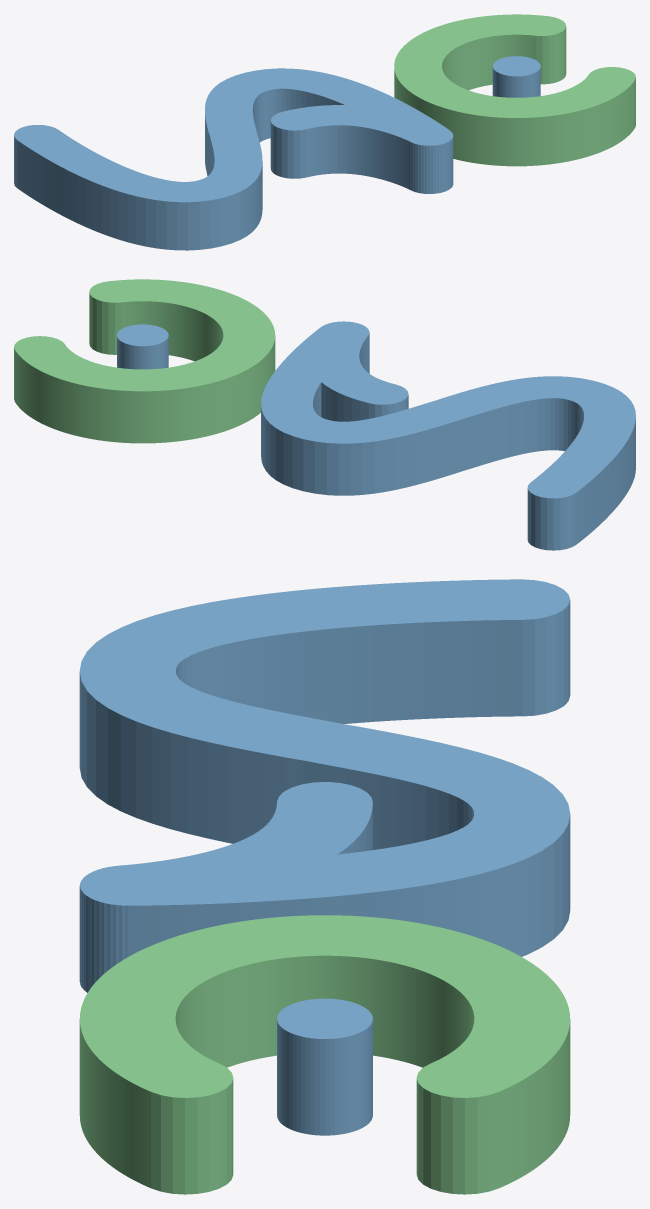
The model's file is vac.glb.
3 views of the same model, one above another, from view 1: azimuth 30°, elevation 25°; view 2: azimuth 150°, elevation 25°; view 3: azimuth 270°, elevation 25° (orthographic). The views are drawn at different scales.
Visible parts, largest first — view 1: 000_path817_-_Stroke, 002_path839_-_Stroke, 001_path863_-_Stroke, 003_path880; view 2: 000_path817_-_Stroke, 002_path839_-_Stroke, 001_path863_-_Stroke, 003_path880; view 3: 000_path817_-_Stroke, 002_path839_-_Stroke, 001_path863_-_Stroke, 003_path880.
Part boxes in pixels (box(x1,y1,x2,y2)): 000_path817_-_Stroke: box(14, 68, 452, 250); 002_path839_-_Stroke: box(394, 14, 635, 166); 001_path863_-_Stroke: box(270, 105, 453, 193); 003_path880: box(492, 56, 540, 97); 000_path817_-_Stroke: box(261, 321, 635, 550); 002_path839_-_Stroke: box(14, 279, 275, 443); 001_path863_-_Stroke: box(307, 321, 408, 421); 003_path880: box(117, 324, 168, 369); 000_path817_-_Stroke: box(79, 579, 570, 992); 002_path839_-_Stroke: box(79, 915, 570, 1194); 001_path863_-_Stroke: box(80, 782, 372, 991); 003_path880: box(277, 998, 372, 1135).
Bounding box in the file's own units: 57.62 × 5 × 23.04.
